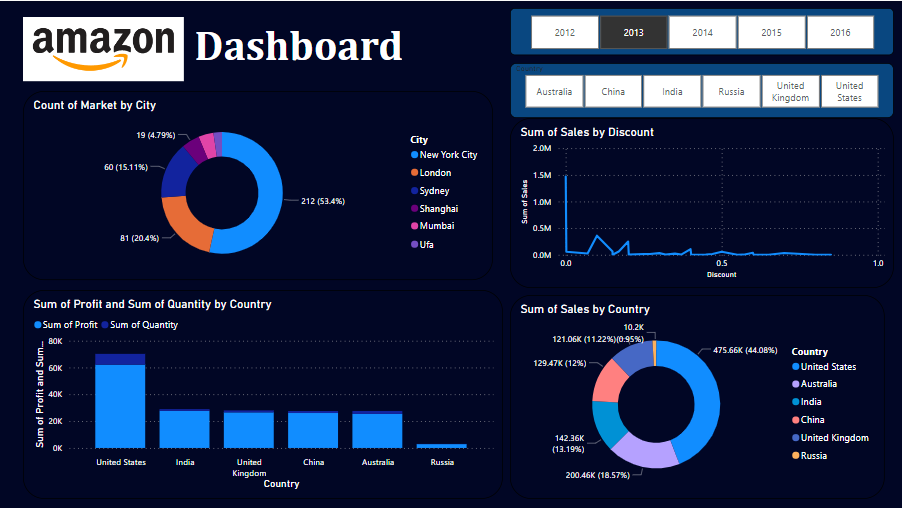

Layout of this report page (visuals, bound fields, positions):
{"tool":"powerbi","page":{"name":"Page 1","canvas":[1280,720],"ordinal":0},"visuals":[{"type":"pieChart","fields":{"Category":["Orders.Country"],"Y":["Sum(Orders.Sales)"]},"box":[722.8,416.7,531.5,289.1],"z":0},{"type":"columnChart","fields":{"Y":["Sum(Orders.Profit)","Sum(Orders.Quantity)"],"Category":["Orders.Country"]},"box":[32.6,409.6,680.3,296.2],"z":1000},{"type":"lineChart","fields":{"Category":["Orders.Discount","Orders.Market"],"Y":["Sum(Orders.Sales)"]},"box":[722.8,165.8,544.3,240.9],"z":2000},{"type":"slicer","fields":{"Values":["Orders.Ship Date.Variation.Date Hierarchy.Year"]},"box":[722.8,9.9,544.3,66.6],"z":3000},{"type":"donutChart","fields":{"Category":["Orders.City"],"Y":["CountNonNull(Orders.Market)"]},"box":[32.6,127.6,666.1,267.9],"z":4000},{"type":"slicer","fields":{"Values":["Orders.Country"]},"box":[722.8,87.9,544.3,78],"z":5000},{"type":"image","box":[32.6,22.7,228.2,90.7],"z":6000},{"type":"textbox","box":[270.7,22.7,338.7,79.4],"z":7000}]}

Visuals, with their boxes in screenshot pixels (x1, y1, x2, y2), scaled from the page's 1280x720 canvas onto the 902x508 screenshot:
pieChart - Orders.Country x Sum(Orders.Sales): <bbox>509, 294, 884, 498</bbox>
columnChart - Sum(Orders.Profit) x Sum(Orders.Quantity): <bbox>23, 289, 502, 498</bbox>
lineChart - Orders.Discount x Orders.Market: <bbox>509, 117, 893, 287</bbox>
slicer - Orders.Ship Date.Variation.Date Hierarchy.Year: <bbox>509, 7, 893, 54</bbox>
donutChart - Orders.City x CountNonNull(Orders.Market): <bbox>23, 90, 492, 279</bbox>
slicer - Orders.Country: <bbox>509, 62, 893, 117</bbox>
image: <bbox>23, 16, 184, 80</bbox>
textbox: <bbox>191, 16, 429, 72</bbox>
